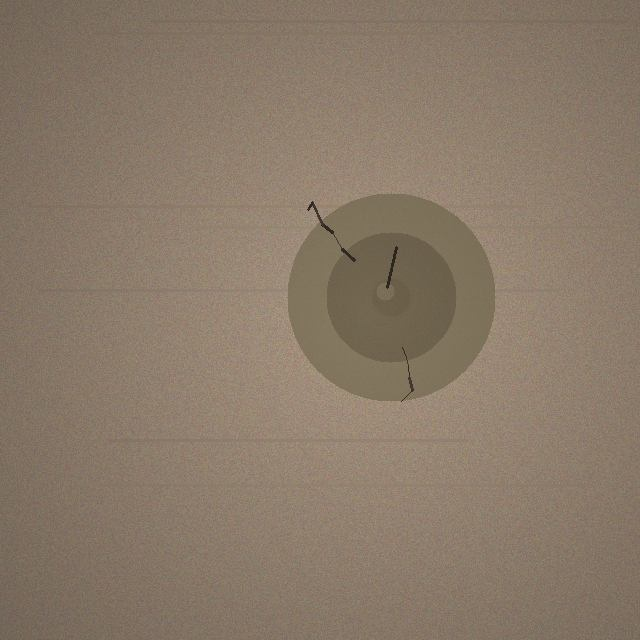crack: (287, 193, 495, 401)
